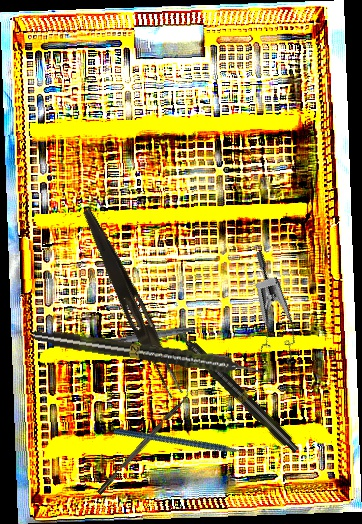Chopper: (113, 379, 268, 500), (91, 386, 195, 495), (78, 320, 215, 360)
Dressing Forceps: (72, 206, 191, 400)
Handpiece: (169, 323, 302, 456), (31, 325, 267, 382)
Speculum: (212, 250, 317, 376)
